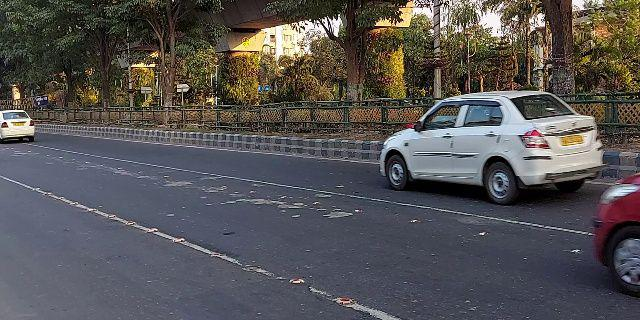Car: (371, 87, 606, 203), (589, 163, 640, 295), (1, 107, 39, 145)
